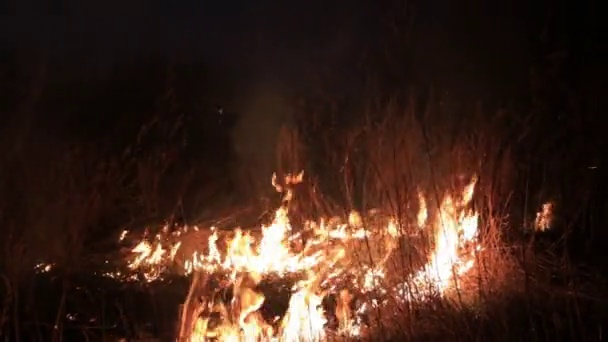fire: (222, 217, 370, 279), (413, 198, 479, 295), (189, 288, 265, 342), (288, 287, 326, 342), (186, 231, 221, 273), (336, 291, 365, 337), (128, 239, 164, 270), (539, 204, 548, 229), (462, 183, 473, 198), (286, 173, 302, 182)
